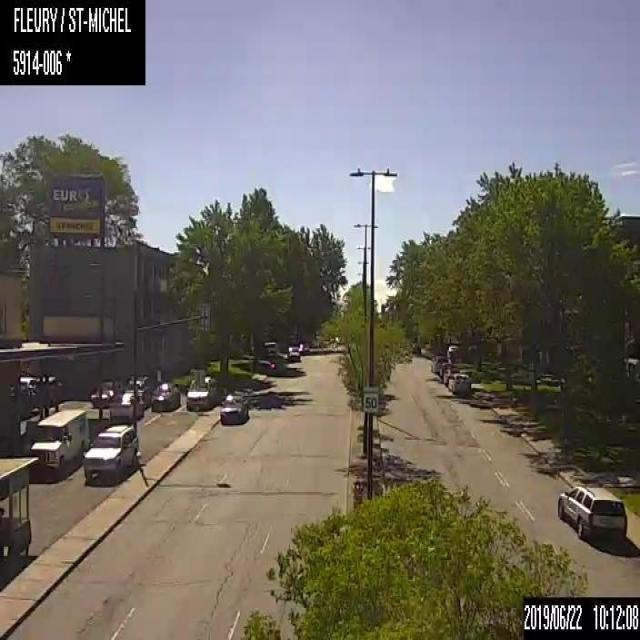vehicle: (556, 481, 627, 539), (30, 405, 90, 472), (82, 422, 140, 484), (186, 372, 218, 408), (87, 376, 119, 408), (110, 391, 143, 422), (218, 392, 248, 424), (150, 380, 180, 412), (447, 373, 472, 396), (431, 354, 448, 374), (443, 368, 460, 383), (287, 344, 300, 363)
